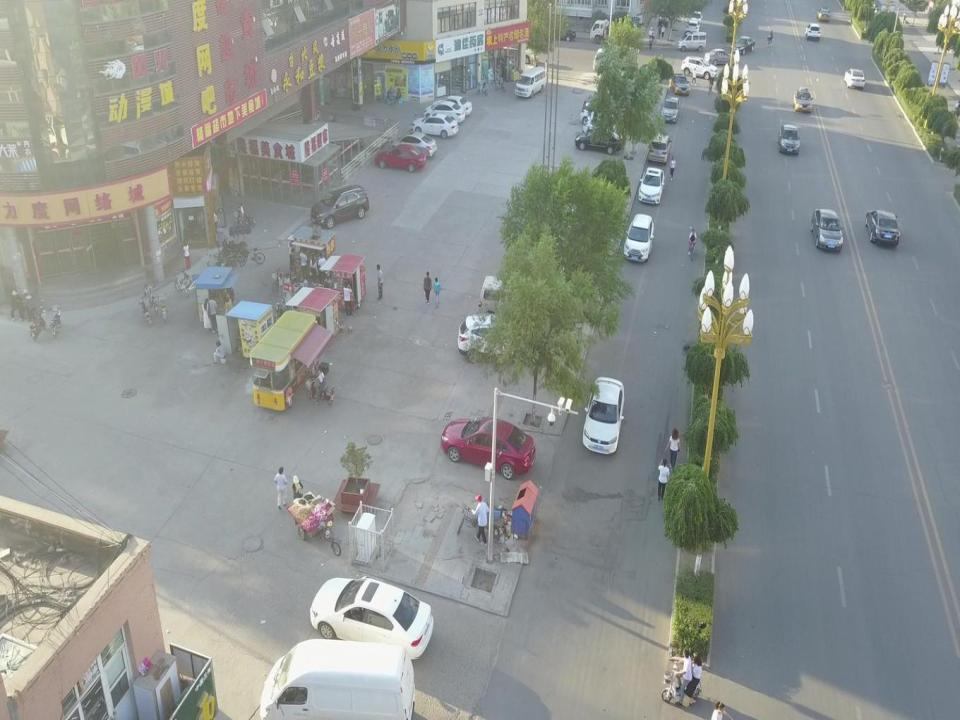car: (309, 575, 434, 660), (440, 416, 535, 479), (457, 314, 534, 364), (582, 375, 626, 454), (310, 184, 369, 230), (622, 212, 655, 262), (374, 141, 426, 172), (810, 207, 845, 251), (574, 127, 625, 154), (864, 209, 901, 246), (389, 131, 438, 157), (409, 113, 459, 137), (423, 101, 466, 126), (637, 167, 665, 205), (433, 94, 473, 117), (680, 56, 718, 80), (580, 102, 618, 124), (581, 97, 623, 116), (778, 122, 800, 156), (659, 95, 680, 123), (704, 48, 736, 65), (668, 73, 690, 95), (844, 68, 866, 89), (794, 87, 812, 112), (731, 36, 755, 54), (551, 26, 576, 42), (805, 22, 821, 42), (685, 20, 700, 34), (817, 7, 830, 22), (690, 12, 702, 25)
truck: (590, 19, 636, 44)
van: (257, 637, 416, 719), (476, 276, 552, 328), (515, 67, 546, 98), (648, 132, 673, 164), (677, 31, 707, 52)
